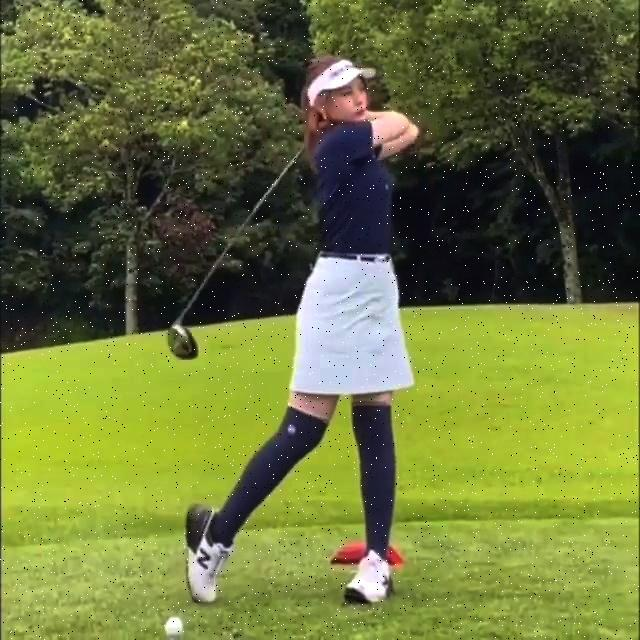golf ball: (165, 617, 181, 638)
golf club-handle: (169, 146, 307, 358)
golf club-head: (170, 323, 197, 361)
